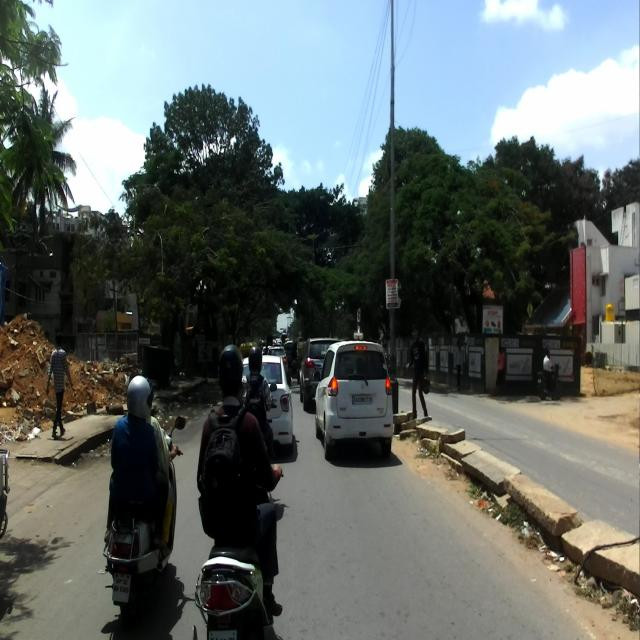Car_Maruti-Suzuki: (313, 338, 394, 460)
scooter: (96, 414, 187, 637), (191, 441, 279, 638)
